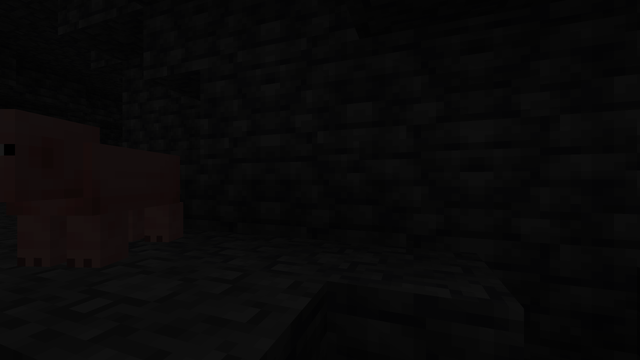cochons: (9, 137, 192, 274)
